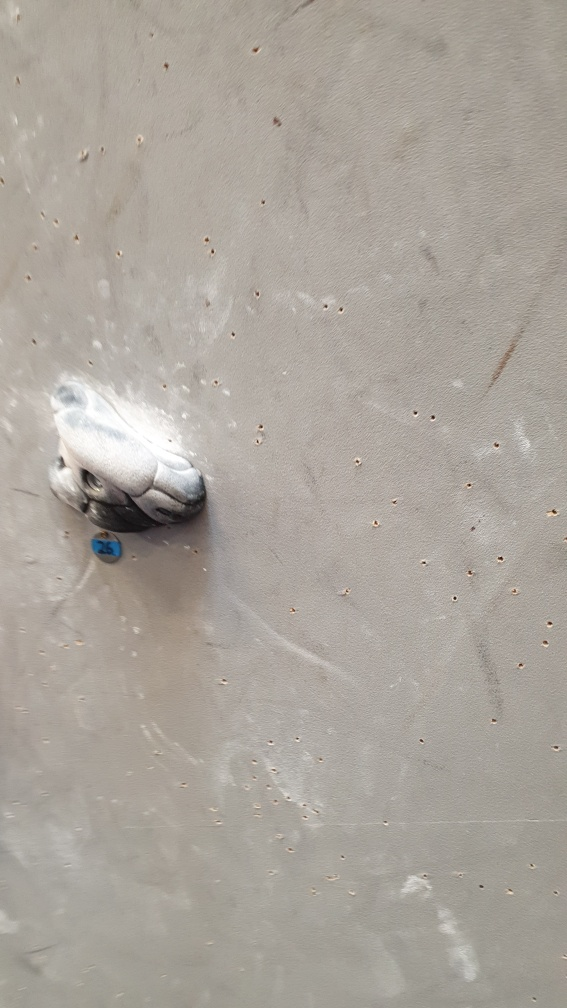Hand Start: (87, 530, 126, 564)
Jug: (41, 377, 210, 534)
